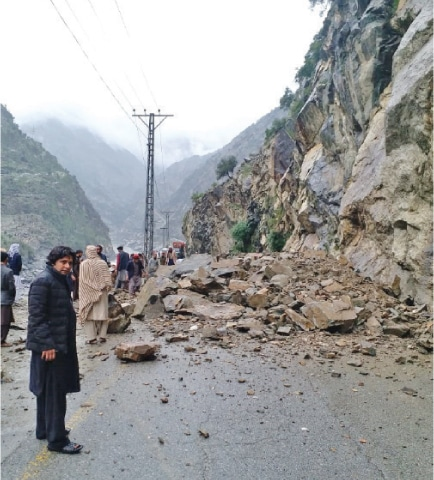landSliding: (144, 224, 424, 372)
